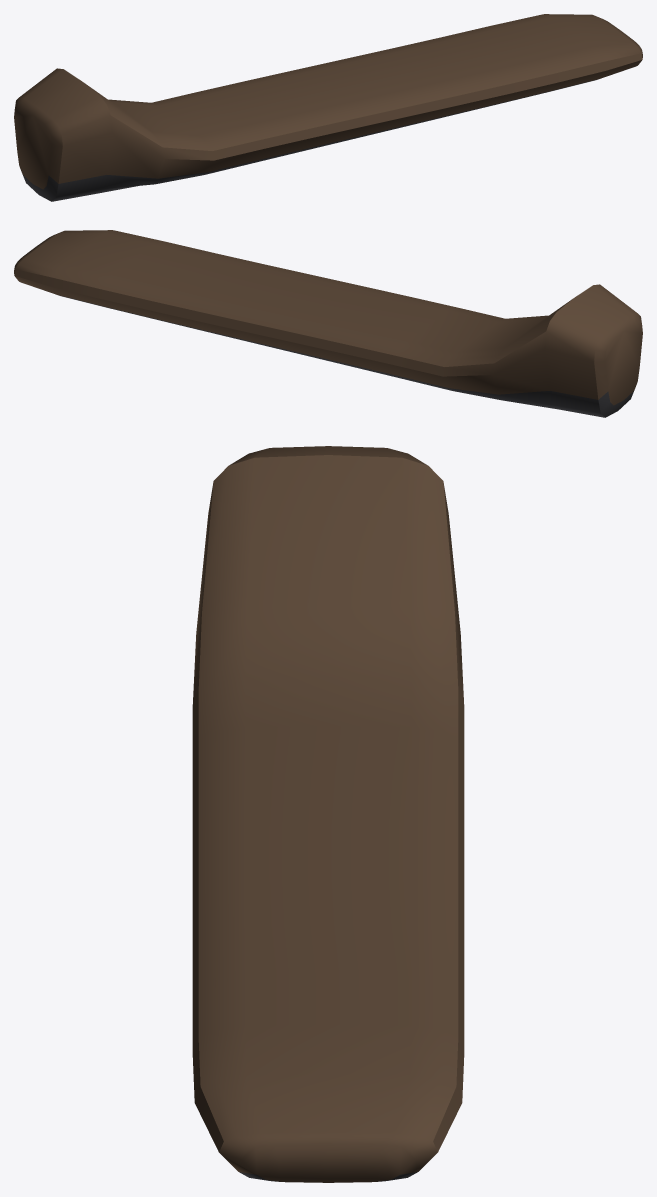
File: flat_track_lod1.glb
3 renders of one model, top to bottom at view 1: azimuth 30°, elevation 25°; view 2: azimuth 150°, elevation 25°; view 3: azimuth 270°, elevation 25°, orthographic. The views are drawn at different scales.
Parts seen in each view (by area): view 1: flat_track_lod1; view 2: flat_track_lod1; view 3: flat_track_lod1.
Boxes of the visible parts, <box> form: flat_track_lod1: <box>14,14,642,201</box>; flat_track_lod1: <box>14,230,642,417</box>; flat_track_lod1: <box>192,446,464,1182</box>.
Size of the model in its own units: 1 by 0.1678 by 0.1999.
